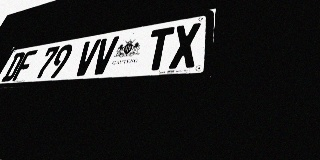7: (33, 46, 60, 79)
9: (47, 43, 75, 78)
D: (1, 52, 26, 82)
F: (12, 50, 38, 81)
T: (143, 27, 175, 71)
V: (90, 36, 119, 75), (72, 39, 101, 76)
X: (169, 22, 201, 69)
